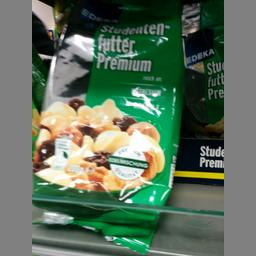nuts: (32, 4, 185, 252)
